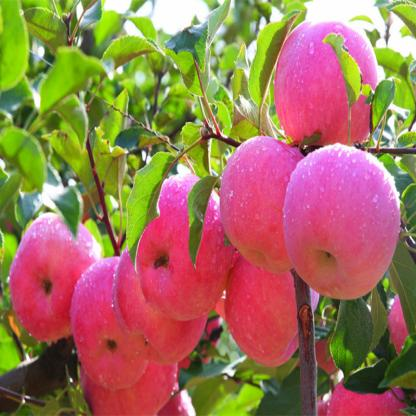apple: (118, 165, 243, 320), (285, 150, 398, 313), (218, 122, 321, 284), (266, 17, 380, 156), (7, 206, 102, 355), (76, 294, 186, 414), (223, 242, 317, 376), (66, 256, 158, 392)
